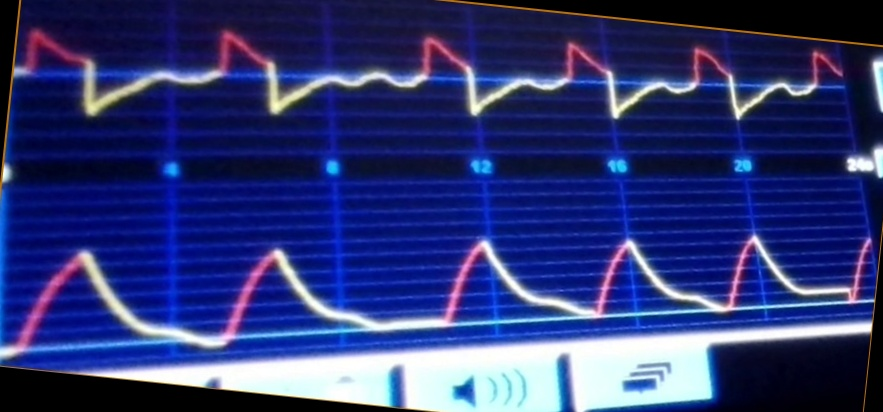Ineffective_effort Flow: (17, 23, 842, 142)
Ineffective_effort Volume: (3, 218, 868, 350)
